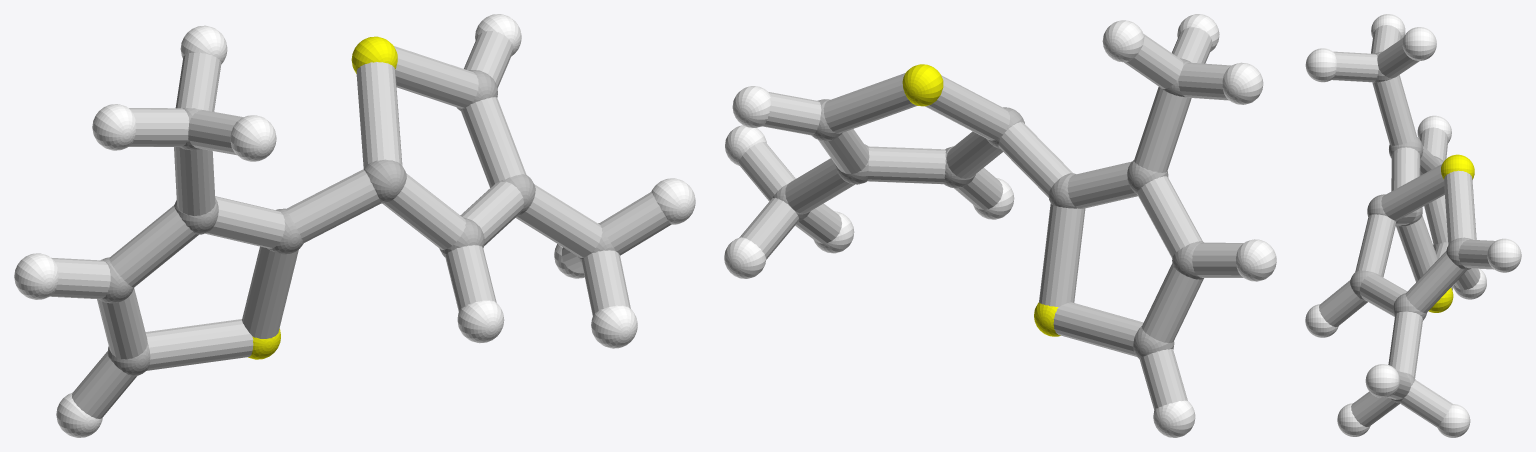
Rendered from Methylthiophene_Phi_50_Theta_310_Methylthiophene.glb.
3 renders of one model, left to right at view 1: azimuth 30°, elevation 25°; view 2: azimuth 150°, elevation 25°; view 3: azimuth 270°, elevation 25°, orthographic. The views are drawn at different scales.
Visible parts, largest first — view 1: grp7965, grp3621, grp1, grp7241; view 2: grp7965, grp3621, grp1, grp7241; view 3: grp7965, grp3621, grp1, grp7241.
Boxes of the visible parts, x1,y1,x2,y2 form: grp7965: [50, 30, 670, 418]; grp3621: [14, 14, 695, 437]; grp1: [99, 70, 615, 376]; grp7241: [248, 36, 397, 359]; grp7965: [738, 27, 1243, 409]; grp3621: [724, 14, 1276, 437]; grp1: [773, 58, 1203, 358]; grp7241: [902, 64, 1060, 336]; grp7965: [1319, 25, 1494, 427]; grp3621: [1305, 14, 1521, 437]; grp1: [1350, 51, 1472, 403]; grp7241: [1428, 154, 1474, 312].
Size of the model in its own units: 9.47 by 5.81 by 3.77.
